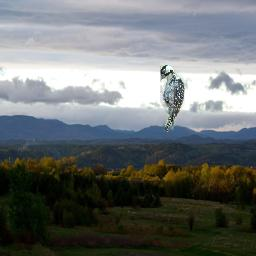Woodpecker: (160, 65, 185, 133)
